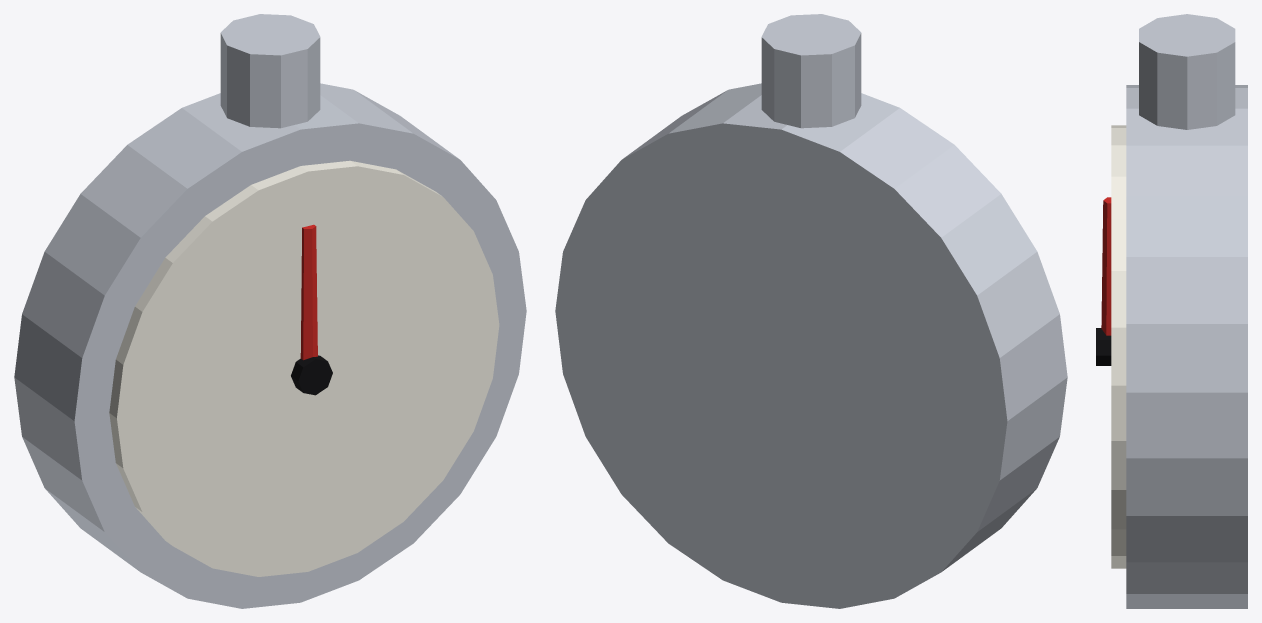
Rendered from stopwatch.glb.
The picture shows the model from 3 angles, left to right: view 1: azimuth 30°, elevation 25°; view 2: azimuth 150°, elevation 25°; view 3: azimuth 270°, elevation 25°; orthographic projection.
Parts seen in each view (by area): view 1: stopwatch; view 2: stopwatch; view 3: stopwatch.
Part boxes in pixels (x1=…): stopwatch: x1=14, y1=14, x2=526, y2=608; stopwatch: x1=555, y1=14, x2=1067, y2=608; stopwatch: x1=1096, y1=14, x2=1247, y2=608.
Bounding box in the file's own units: 0.52 × 0.6 × 0.15.
